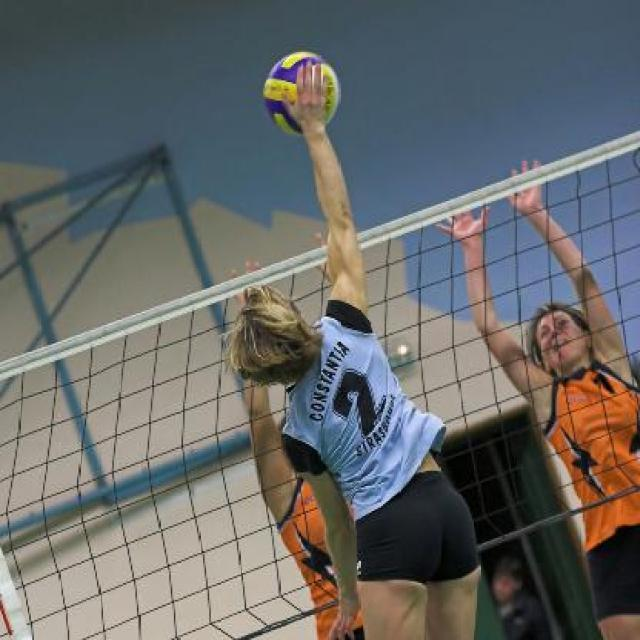volleyball: (263, 51, 341, 138)
